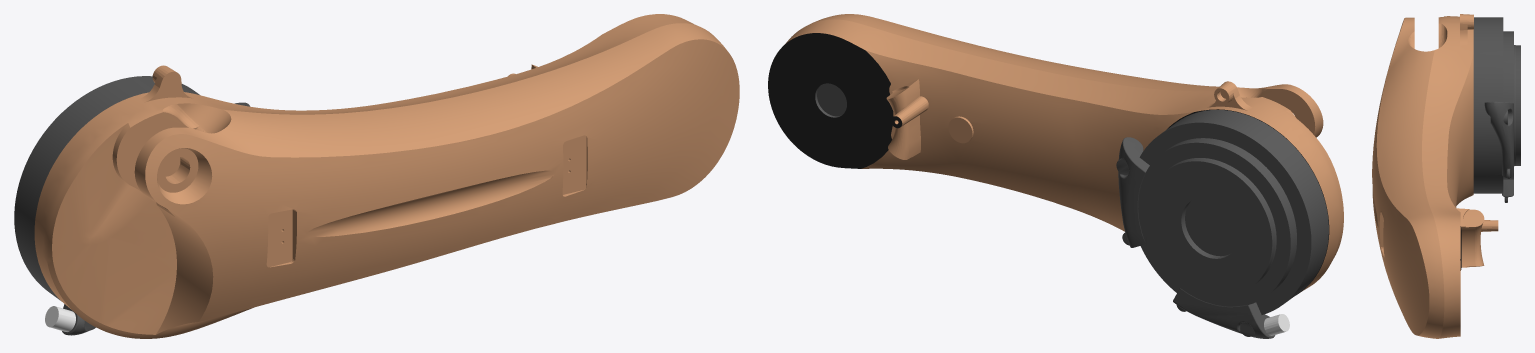
3 views of the same model, side by side, from view 1: azimuth 30°, elevation 25°; view 2: azimuth 150°, elevation 25°; view 3: azimuth 270°, elevation 25° (orthographic). The views are drawn at different scales.
Visible parts, largest first — view 1: link_02; view 2: link_02; view 3: link_02.
Part boxes in pixels (x1=…): link_02: x1=14, y1=14, x2=739, y2=338; link_02: x1=768, y1=14, x2=1343, y2=338; link_02: x1=1372, y1=14, x2=1520, y2=338.
Size of the model in its own units: 1.79 by 0.4806 by 0.6732.
